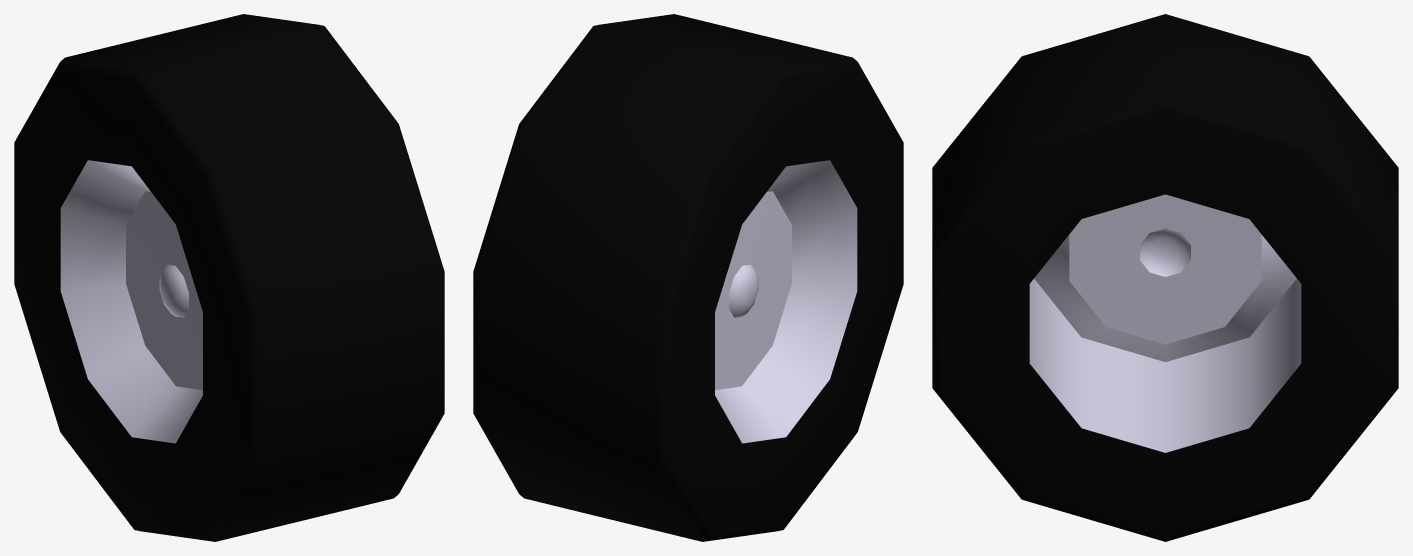
The model's file is bigWheel.fbx.
The picture shows the model from 3 angles, left to right: view 1: azimuth 30°, elevation 25°; view 2: azimuth 150°, elevation 25°; view 3: azimuth 270°, elevation 25°; orthographic projection. The views are drawn at different scales.
Parts seen in each view (by area): view 1: BigWheel; view 2: BigWheel; view 3: BigWheel.
Boxes of the visible parts, left/top/right/bottom form: BigWheel: left=14, top=14, right=444, bottom=541; BigWheel: left=473, top=14, right=903, bottom=541; BigWheel: left=932, top=14, right=1398, bottom=541.
Bounding box in the file's own units: 0.6725 × 1.52 × 1.45.
